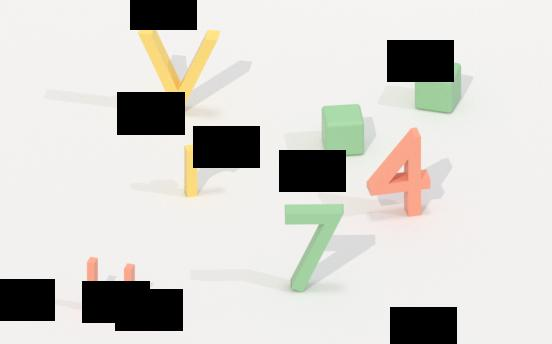4: (363, 122, 434, 220)
7: (281, 199, 348, 295)
R: (182, 139, 229, 200)
hop: (411, 56, 464, 116), (320, 102, 367, 159)
u: (86, 255, 138, 316)
v: (135, 20, 225, 122)
